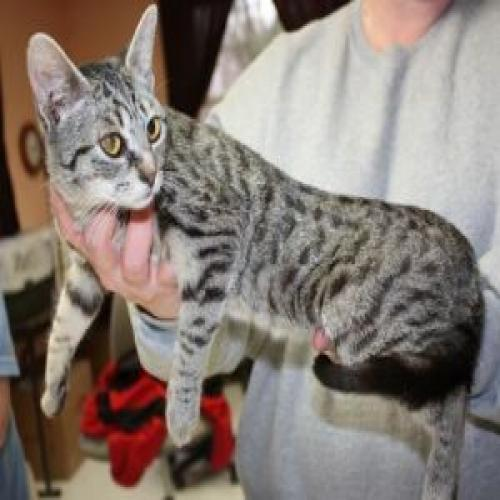bengal: (9, 1, 183, 220)
